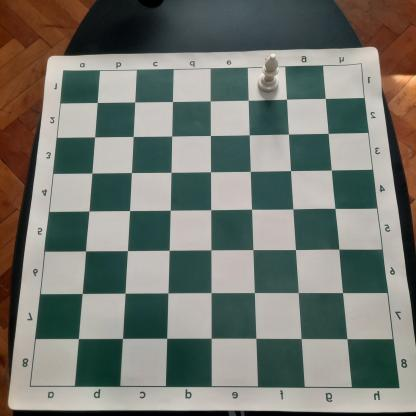white-bishop: (252, 53, 282, 93)
